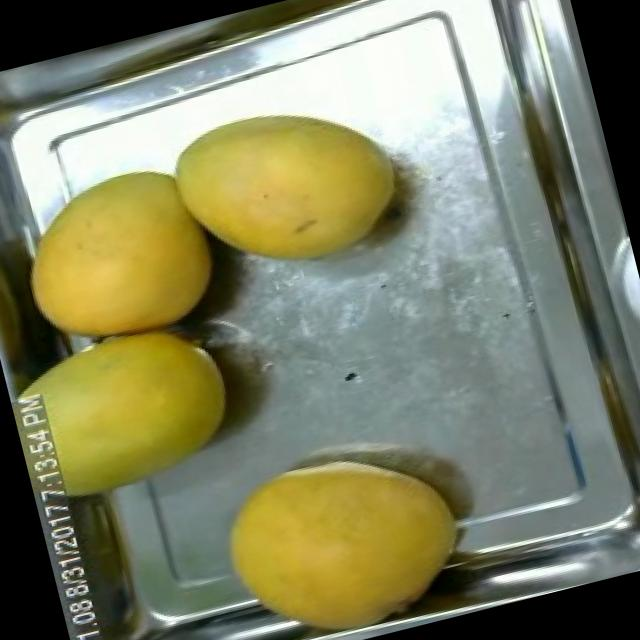fruit: (152, 72, 428, 306), (198, 417, 486, 640), (8, 296, 268, 523), (0, 141, 247, 373)
